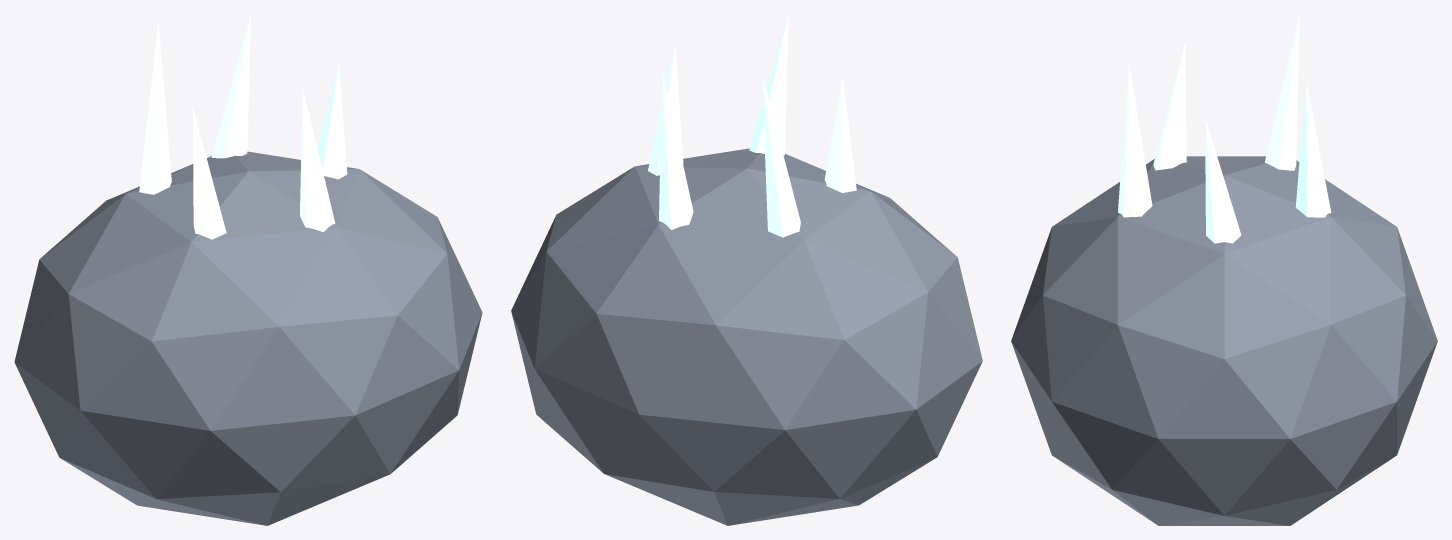
Rendered from OreTier9.fbx.
3 renders of one model, left to right at view 1: azimuth 30°, elevation 25°; view 2: azimuth 150°, elevation 25°; view 3: azimuth 270°, elevation 25°, orthographic.
Parts seen in each view (by area): view 1: Rock, Shard2, Shard4, Shard1, Shard3, Shard0; view 2: Rock, Shard1, Shard2, Shard3, Shard4, Shard0; view 3: Rock, Shard4, Shard2, Shard1, Shard0, Shard3.
Boxes of the visible parts, x1,y1,x2,y2 form: Rock: (14, 151, 482, 525); Shard2: (139, 22, 171, 194); Shard4: (300, 88, 335, 232); Shard1: (211, 15, 250, 158); Shard3: (192, 106, 226, 239); Shard0: (317, 62, 347, 179); Rock: (511, 148, 982, 525); Shard1: (659, 71, 693, 229); Shard2: (762, 74, 800, 237); Shard3: (824, 74, 856, 192); Shard4: (749, 14, 788, 155); Shard0: (648, 44, 683, 175); Rock: (1011, 156, 1437, 525); Shard4: (1118, 63, 1152, 217); Shard2: (1264, 15, 1299, 170); Shard1: (1295, 80, 1331, 217); Shard0: (1205, 117, 1241, 243); Shard3: (1153, 42, 1186, 170).
Bounding box in the file's own units: 2.74 × 3.04 × 2.52.
